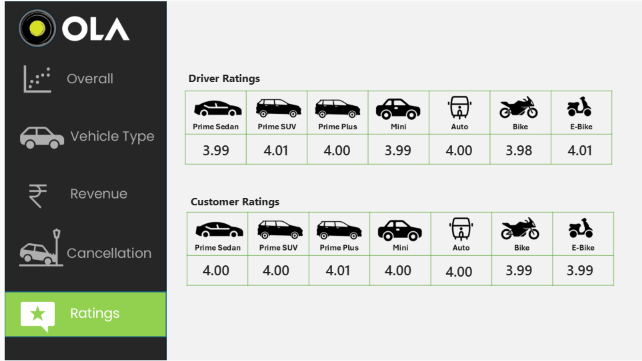

The page's visual inventory and layout, read from the dashboard file:
{"tool":"powerbi","page":{"name":"Ratings","canvas":[1920,1080],"ordinal":4},"visuals":[{"type":"actionButton","box":[317.3,622.7,324.5,90.7],"z":0},{"type":"actionButton","box":[317.3,513,324.5,93.1],"z":1000},{"type":"actionButton","box":[317.3,400.8,324.5,88.3],"z":2000},{"type":"actionButton","box":[317.3,286.3,324.5,88.3],"z":3000},{"type":"cardVisual","fields":{"Data":["Avg(July.Driver_Ratings)"]},"box":[681.4,444.3,121.4,57.1],"z":3001},{"type":"cardVisual","fields":{"Data":["Avg(July.Driver_Ratings)"]},"box":[802.9,444.3,121.4,57.1],"z":3002},{"type":"cardVisual","fields":{"Data":["Avg(July.Driver_Ratings)"]},"box":[924.3,444.3,121.4,57.1],"z":3003},{"type":"cardVisual","fields":{"Data":["Avg(July.Driver_Ratings)"]},"box":[1045.7,444.3,121.4,57.1],"z":3004},{"type":"cardVisual","fields":{"Data":["Avg(July.Driver_Ratings)"]},"box":[1167.1,444.3,121.4,57.1],"z":3005},{"type":"cardVisual","fields":{"Data":["Avg(July.Driver_Ratings)"]},"box":[1288.6,444.3,121.4,57.1],"z":3006},{"type":"cardVisual","fields":{"Data":["Avg(July.Driver_Ratings)"]},"box":[1410,444.3,121.4,57.1],"z":3007},{"type":"cardVisual","fields":{"Data":["Avg(July.Customer_Rating)"]},"box":[681.4,684.3,121.4,57.1],"z":3008},{"type":"cardVisual","fields":{"Data":["Avg(July.Customer_Rating)"]},"box":[802.9,684.3,121.4,57.1],"z":3009},{"type":"cardVisual","fields":{"Data":["Avg(July.Customer_Rating)"]},"box":[925.7,684.3,121.4,57.1],"z":3010},{"type":"cardVisual","fields":{"Data":["Avg(July.Customer_Rating)"]},"box":[1045.7,684.3,121.4,57.1],"z":3011},{"type":"cardVisual","fields":{"Data":["Avg(July.Customer_Rating)"]},"box":[1167.1,684.3,121.4,61.4],"z":3012},{"type":"cardVisual","fields":{"Data":["Avg(July.Customer_Rating)"]},"box":[1288.6,684.3,121.4,57.1],"z":3013},{"type":"cardVisual","fields":{"Data":["Avg(July.Customer_Rating)"]},"box":[1410,684.3,121.4,57.1],"z":3014},{"type":"textbox","box":[681.2,313.8,153.8,38.8],"z":3015},{"type":"textbox","box":[681.2,560,197.5,32.5],"z":3016}]}

Visuals, with their boxes in screenshot pixels (x1, y1, x2, y2), scaled from the page's 1920x1080 canvas onto the 642x361 screenshot:
actionButton: 106,208,215,238
actionButton: 106,171,215,203
actionButton: 106,134,215,163
actionButton: 106,96,215,125
cardVisual - Avg(July.Driver_Ratings): 228,149,268,168
cardVisual - Avg(July.Driver_Ratings): 268,149,309,168
cardVisual - Avg(July.Driver_Ratings): 309,149,350,168
cardVisual - Avg(July.Driver_Ratings): 350,149,390,168
cardVisual - Avg(July.Driver_Ratings): 390,149,431,168
cardVisual - Avg(July.Driver_Ratings): 431,149,471,168
cardVisual - Avg(July.Driver_Ratings): 471,149,512,168
cardVisual - Avg(July.Customer_Rating): 228,229,268,248
cardVisual - Avg(July.Customer_Rating): 268,229,309,248
cardVisual - Avg(July.Customer_Rating): 310,229,350,248
cardVisual - Avg(July.Customer_Rating): 350,229,390,248
cardVisual - Avg(July.Customer_Rating): 390,229,431,249
cardVisual - Avg(July.Customer_Rating): 431,229,471,248
cardVisual - Avg(July.Customer_Rating): 471,229,512,248
textbox: 228,105,279,118
textbox: 228,187,294,198
